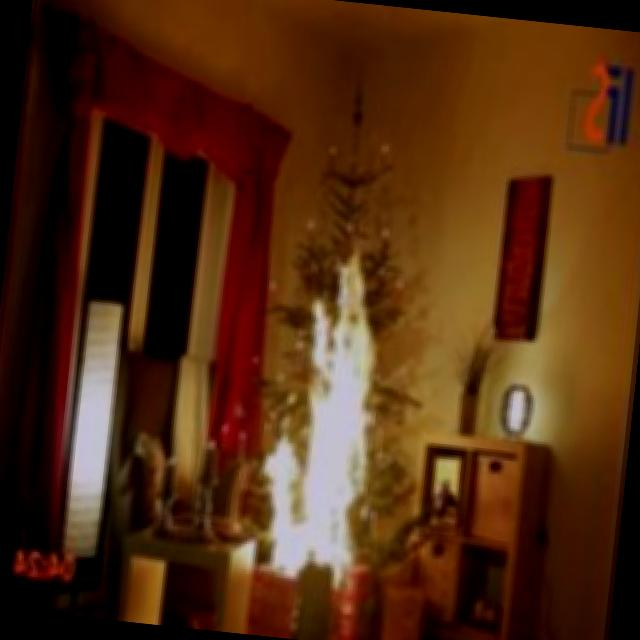fire: (214, 222, 429, 584)
